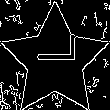L_W: (31, 45, 79, 76)
